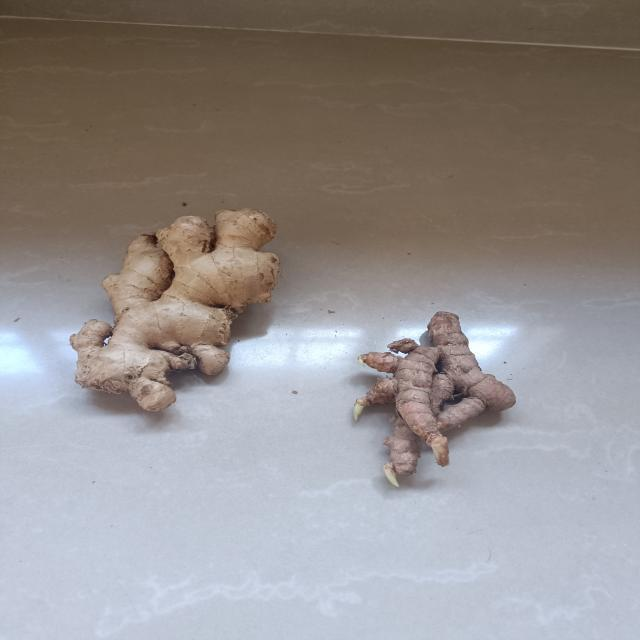ginger: (66, 203, 285, 418), (347, 308, 523, 493)
